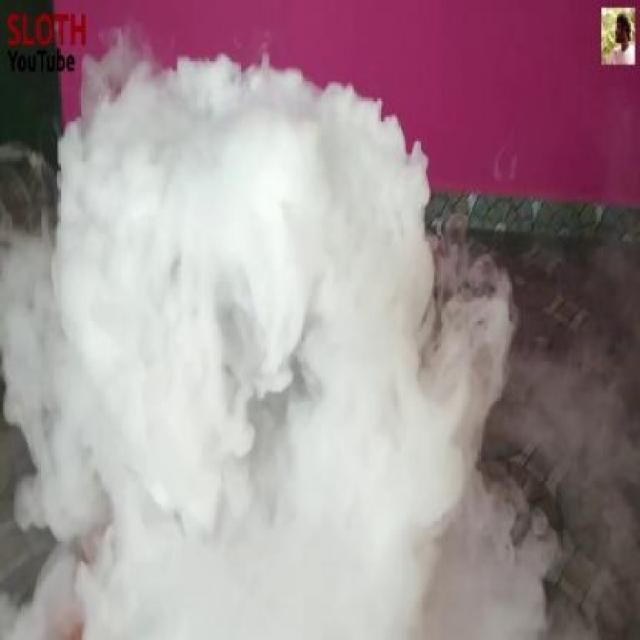smoke: (8, 78, 518, 632)
